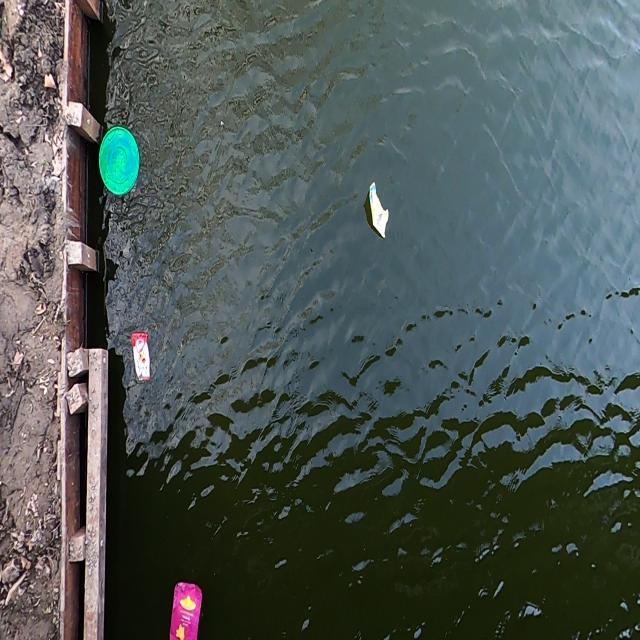Autre plastique: (95, 121, 142, 206), (168, 572, 205, 640), (364, 177, 396, 245), (130, 324, 156, 385)
